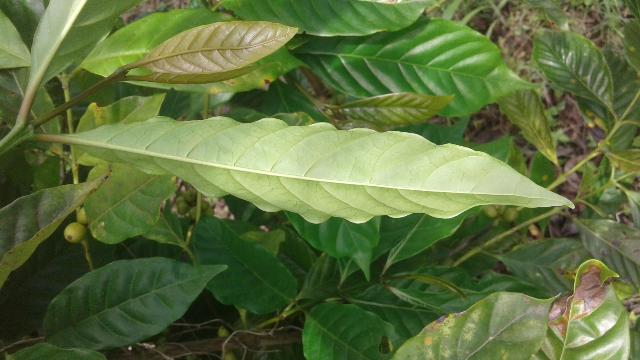healthy: (66, 112, 588, 224)
